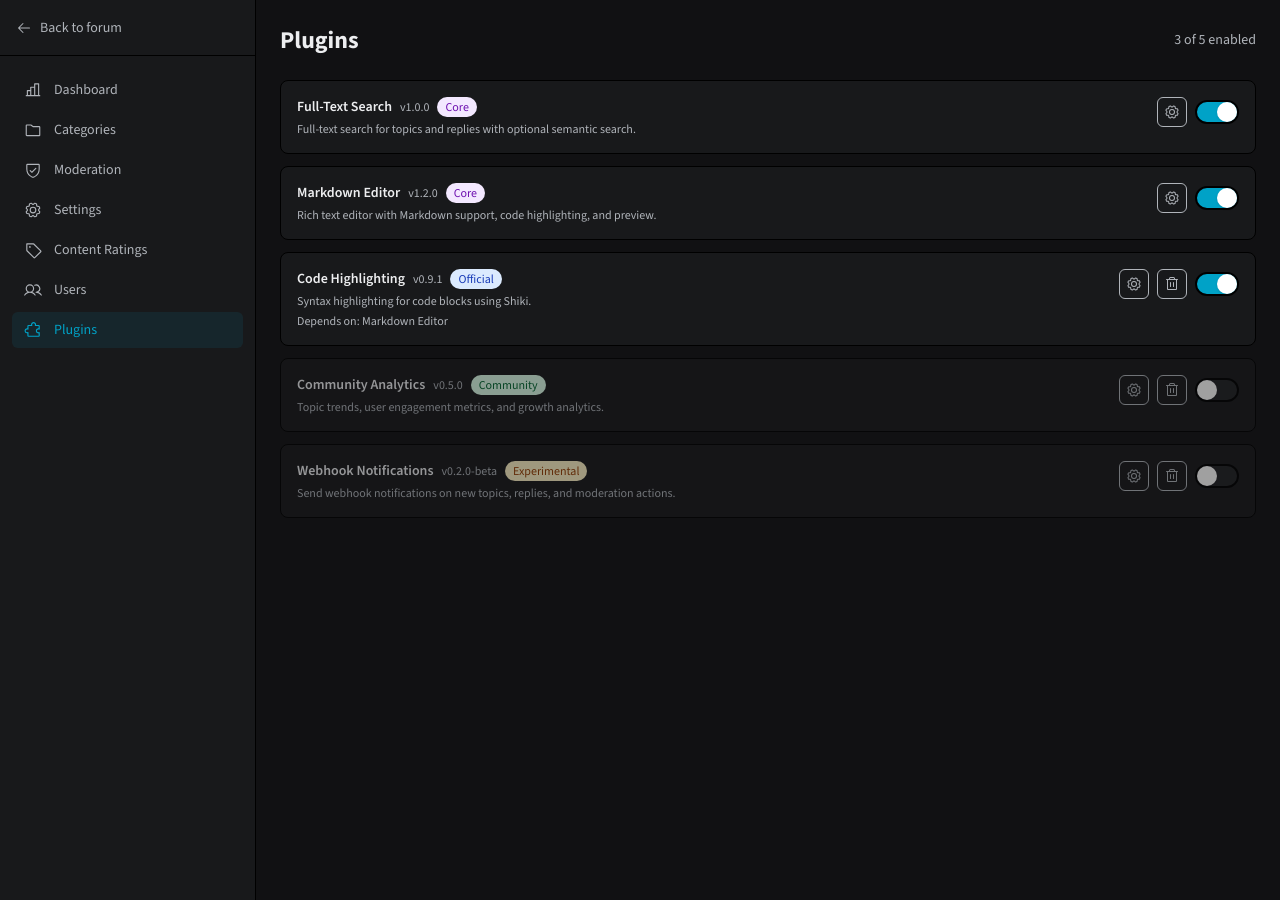
AdminPluginsPage › shows dependency warning when attempting to disable a plugin with dependents
expect the heading "Markdown Editor" is shown: met, box [297,183,400,203]
expect the text "Markdown Editor" is shown: met, box [297,183,400,202]
Click the switch named "Disable Markdown Editor" at (1217, 198), box [1195,186,1239,210]
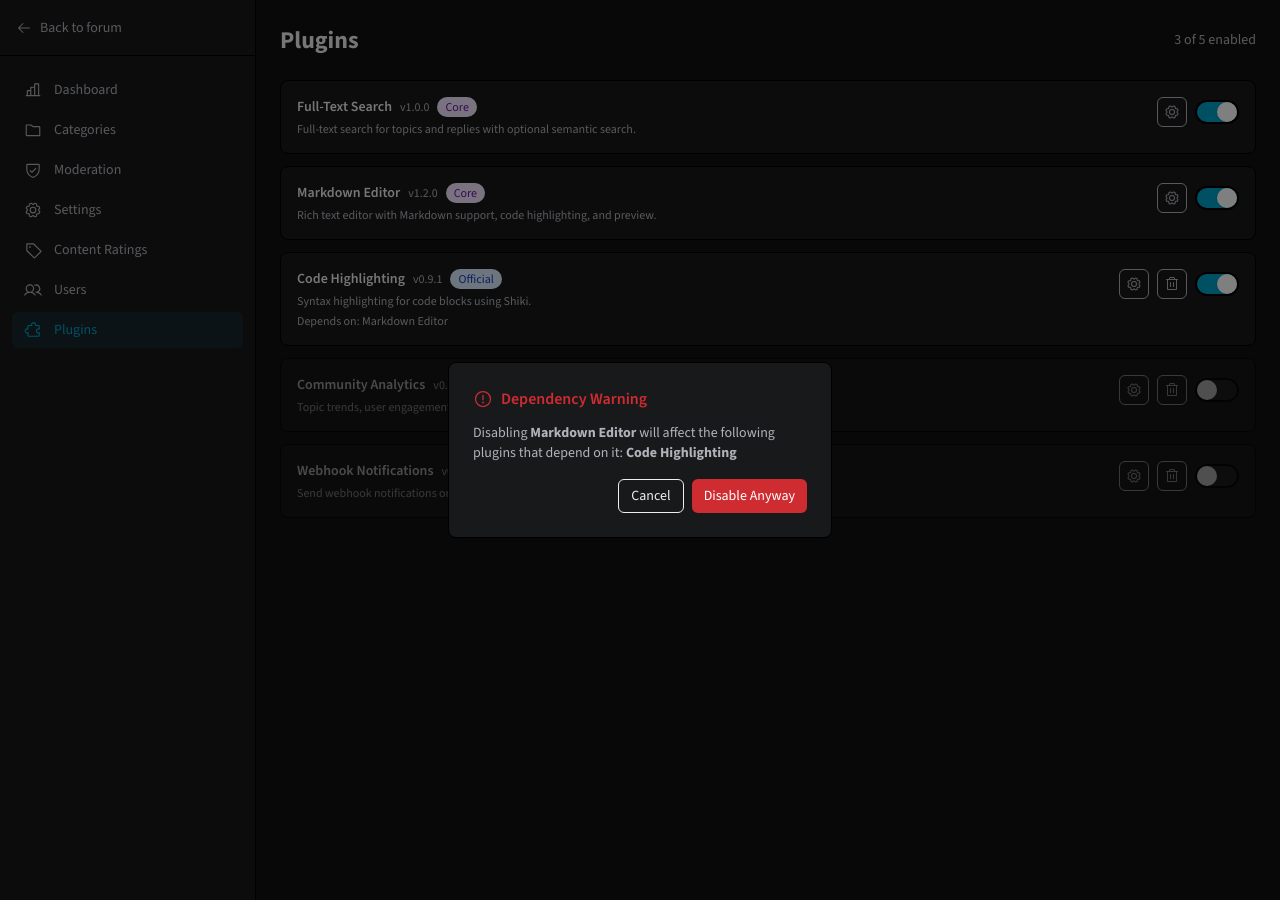
expect the heading "Dependency Warning" is shown: met, box [501,387,647,411]
expect the button "Disable Anyway" is shown: met, box [692,479,807,513]
